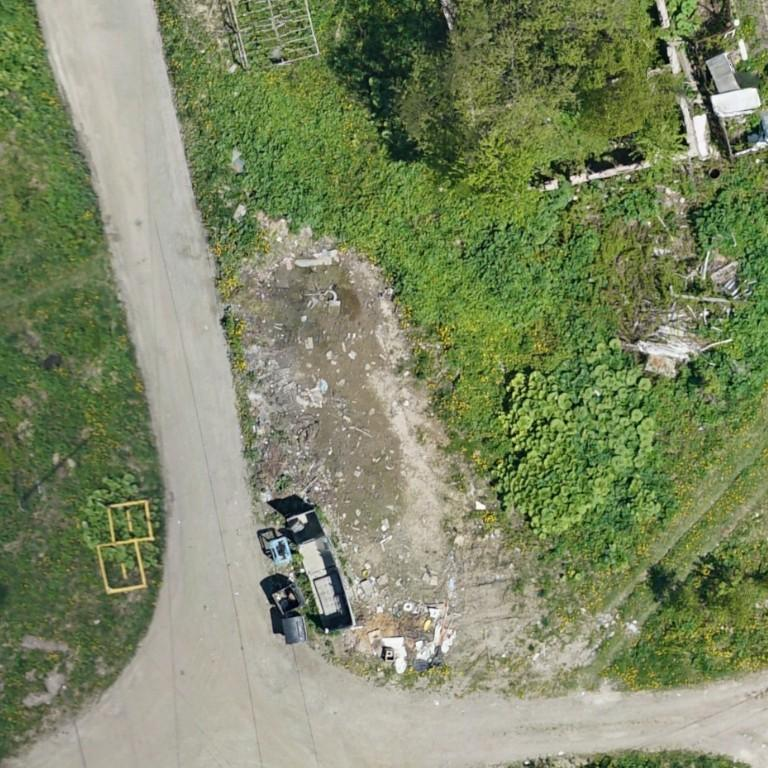hogweed: (463, 186, 615, 348), (692, 175, 767, 410), (216, 93, 334, 231), (611, 192, 659, 220)
